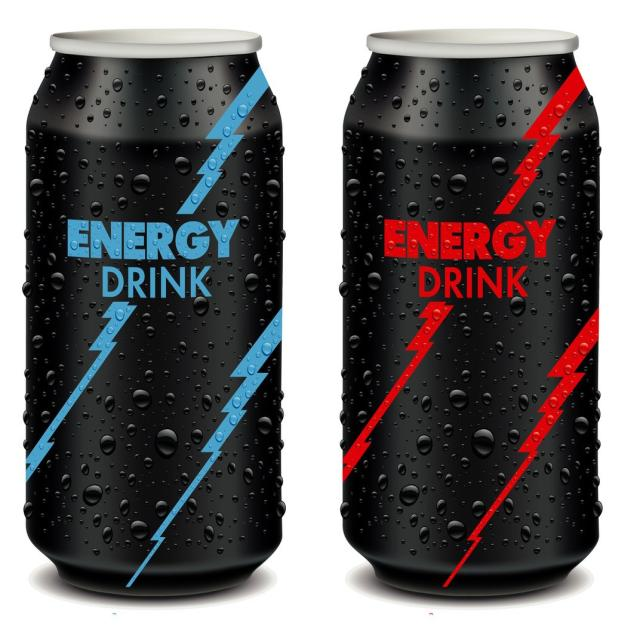Cans: (15, 20, 295, 602), (332, 12, 607, 600)
